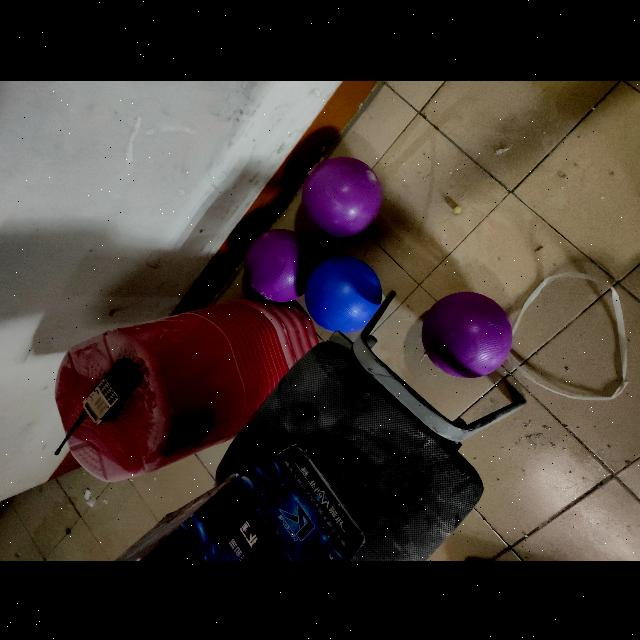B: (304, 258, 384, 334)
P: (422, 291, 512, 377), (301, 158, 383, 238), (242, 228, 320, 306)
